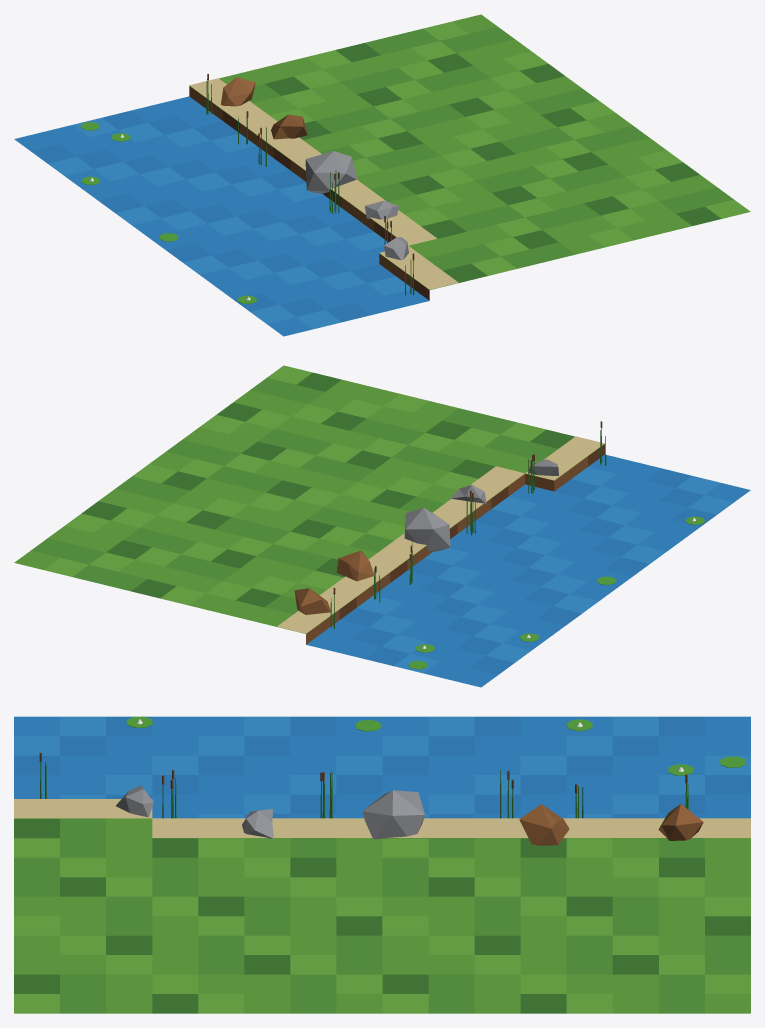
The model's file is chunk_0_5.glb.
The picture shows the model from 3 angles, top to bottom: view 1: azimuth 30°, elevation 25°; view 2: azimuth 150°, elevation 25°; view 3: azimuth 270°, elevation 25°; orthographic projection. The views are drawn at different scales.
Visible parts, largest first — view 1: chunk_0_5; view 2: chunk_0_5; view 3: chunk_0_5.
Boxes of the visible parts, <box> form: chunk_0_5: <box>14,14,750,336</box>; chunk_0_5: <box>14,365,750,687</box>; chunk_0_5: <box>14,716,750,1013</box>.
Bounding box in the file's own units: 16 × 1.6 × 16.
